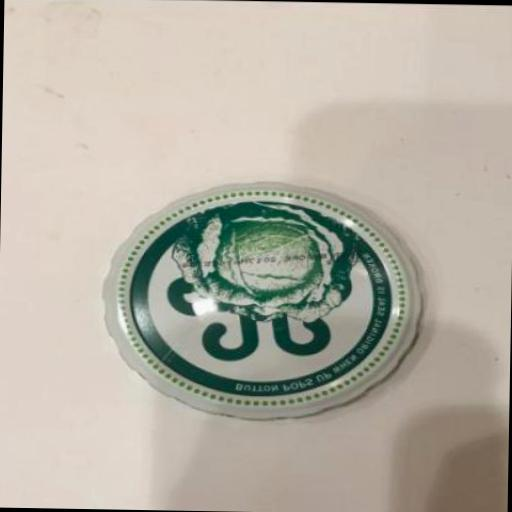metal: (100, 175, 426, 421)
